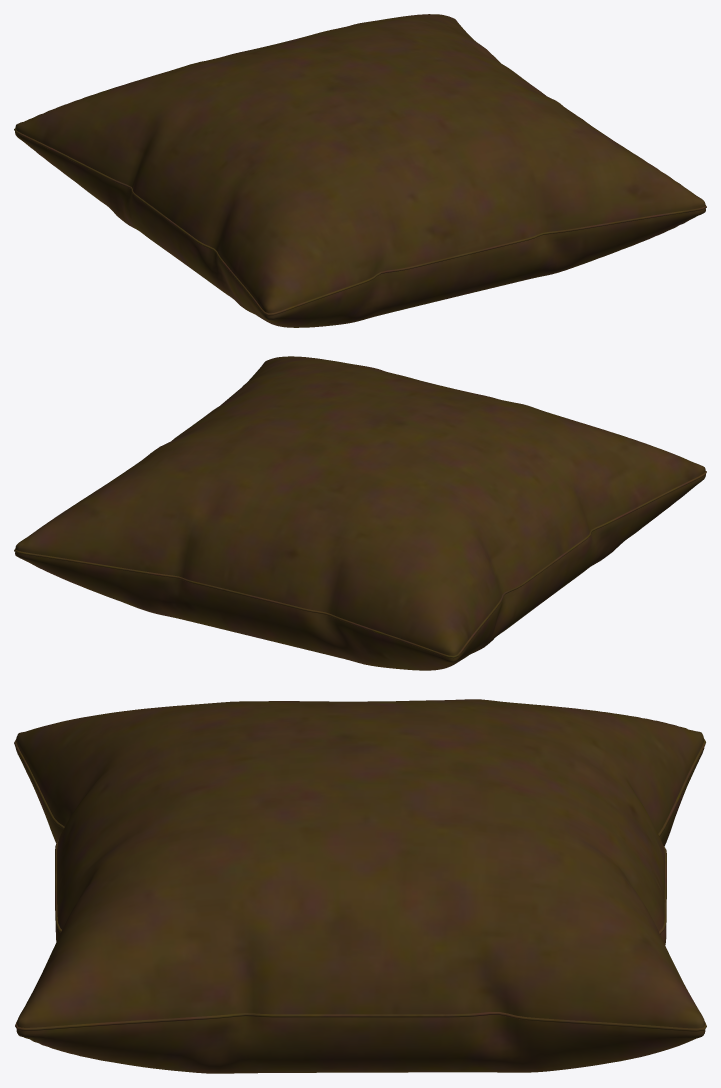
Rendered from gold-cushion.glb.
3 renders of one model, top to bottom at view 1: azimuth 30°, elevation 25°; view 2: azimuth 150°, elevation 25°; view 3: azimuth 270°, elevation 25°, orthographic. The views are drawn at different scales.
Visible parts, largest first — view 1: Pillow_Material_0; view 2: Pillow_Material_0; view 3: Pillow_Material_0.
Boxes of the visible parts, left/top/right/bottom form: Pillow_Material_0: left=14, top=14, right=706, bottom=327; Pillow_Material_0: left=14, top=356, right=706, bottom=670; Pillow_Material_0: left=14, top=699, right=706, bottom=1073.
Bounding box in the file's own units: 0.45 × 0.15 × 0.45.
Materials: 1 (1 with a texture image).
